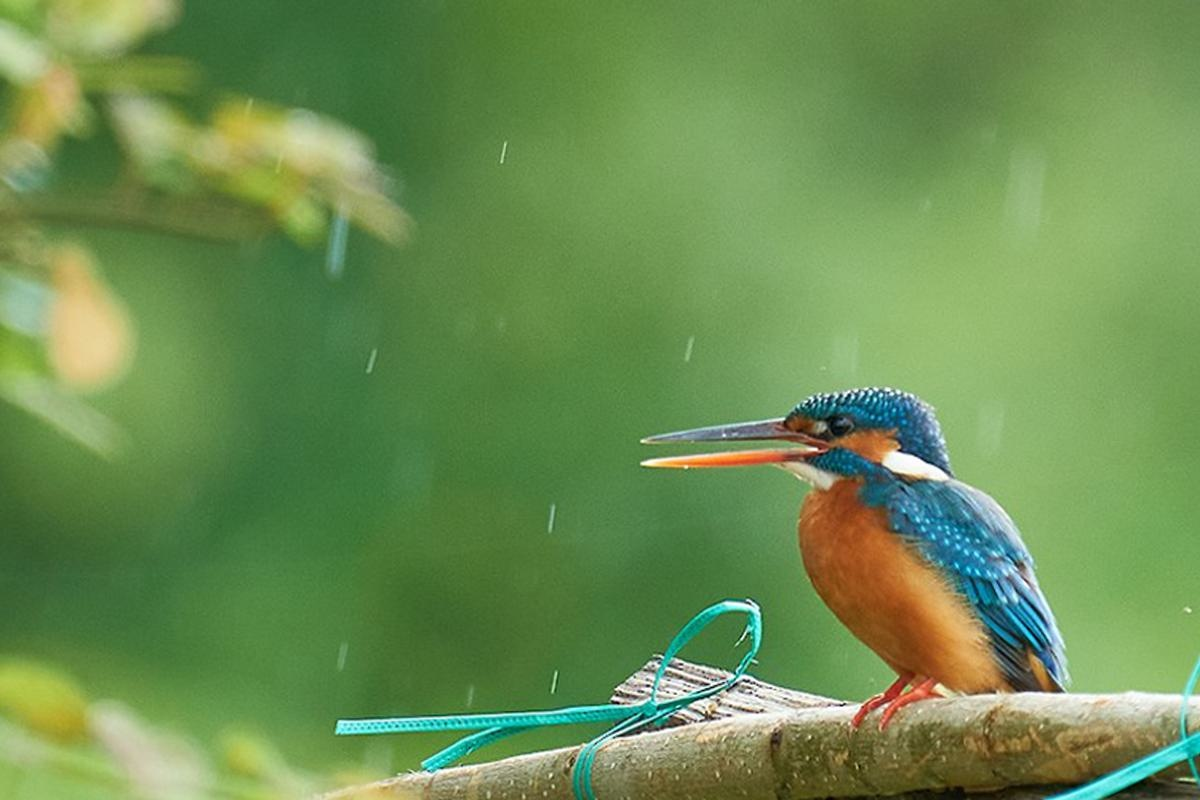kingfisher: (636, 376, 1069, 733)
